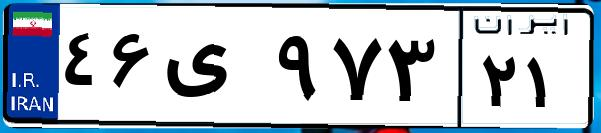1: (525, 38, 570, 115)
2: (475, 38, 525, 113)
3: (385, 28, 445, 110)
4: (57, 26, 110, 100)
6: (110, 28, 158, 98)
7: (330, 28, 385, 110)
9: (270, 28, 330, 110)
ی: (158, 20, 270, 120)
